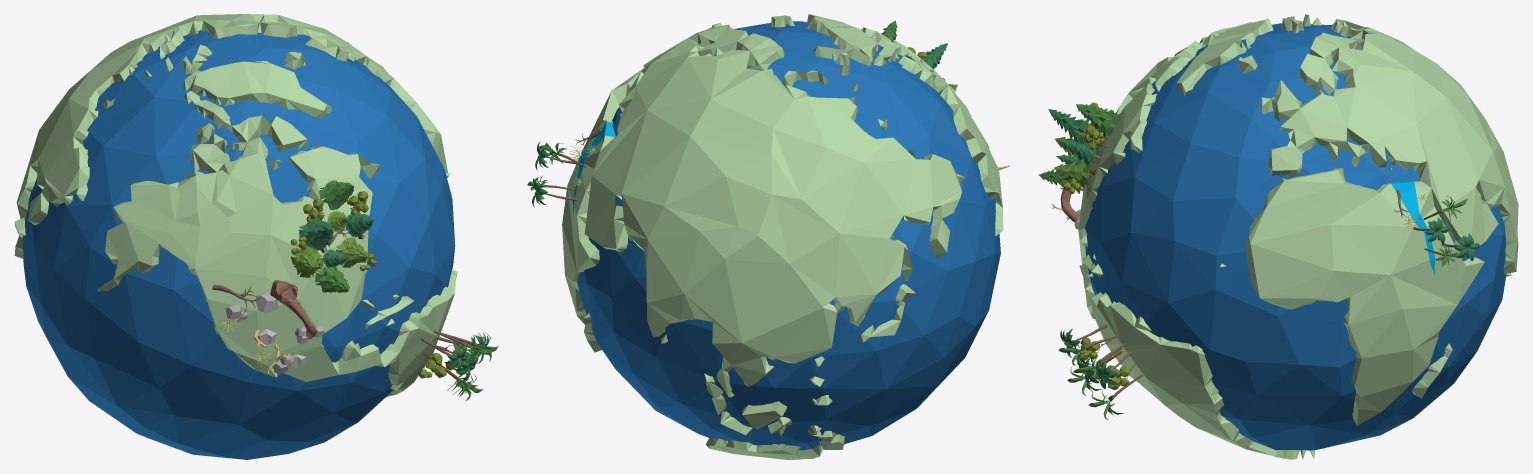
Rendered from globe.glb.
The picture shows the model from 3 angles, left to right: view 1: azimuth 30°, elevation 25°; view 2: azimuth 150°, elevation 25°; view 3: azimuth 270°, elevation 25°; orthographic projection.
Parts seen in each view (by area): view 1: globe, archway.000, spruce_3.000, spruce.001, spruce_2.000, spruce_2.001, spruce.000, spruce_small.000; view 2: globe, nile.000; view 3: globe, nile.000, spruce_2.000, spruce_3.000, spruce.000, spruce_small.000.
Boxes of the visible parts, <box> form: globe: <box>14,14,457,459</box>; archway.000: <box>270,280,316,339</box>; spruce_3.000: <box>298,218,333,250</box>; spruce.001: <box>290,246,323,277</box>; spruce_2.000: <box>319,180,354,209</box>; spruce_2.001: <box>315,266,349,292</box>; spruce.000: <box>336,237,368,267</box>; spruce_small.000: <box>345,213,374,237</box>; globe: <box>562,14,1003,459</box>; nile.000: <box>572,122,615,217</box>; globe: <box>1078,14,1518,459</box>; nile.000: <box>1388,179,1434,274</box>; spruce_2.000: <box>1076,104,1120,137</box>; spruce_3.000: <box>1048,109,1099,143</box>; spruce.000: <box>1054,161,1090,188</box>; spruce_small.000: <box>1059,139,1099,166</box>.
Bounding box in the file's own units: 3.9 × 4.03 × 4.35.
Materials: 69 (10 with a texture image).
